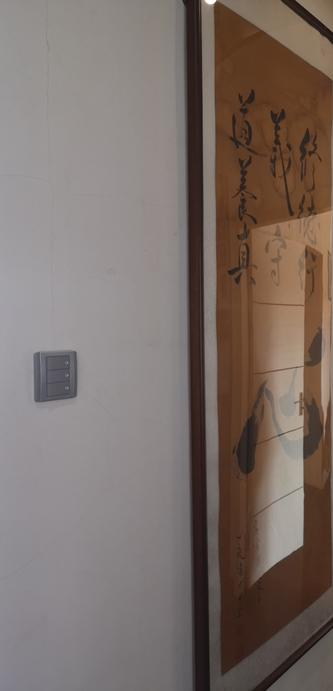switch: (45, 389, 84, 400), (43, 353, 73, 367), (49, 372, 76, 383)
